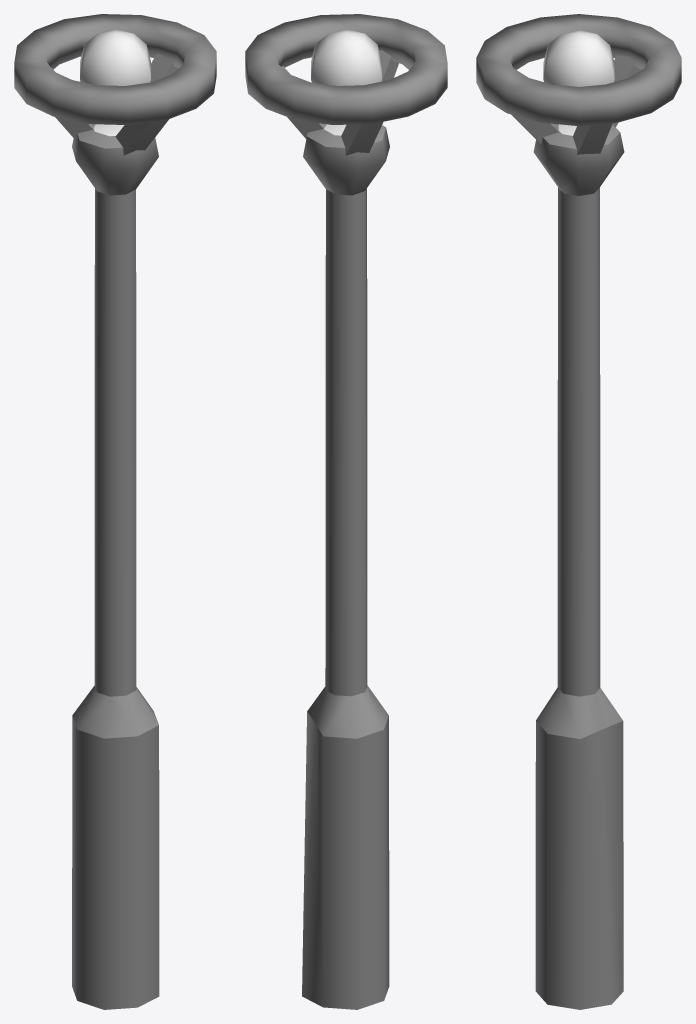
File: Light3.fbx
3 views of the same model, side by side, from view 1: azimuth 30°, elevation 25°; view 2: azimuth 150°, elevation 25°; view 3: azimuth 270°, elevation 25° (orthographic).
Visible parts, largest first — view 1: Light3; view 2: Light3; view 3: Light3.
Part boxes in pixels (left/top/right/bottom): Light3: left=14, top=14, right=216, bottom=1009; Light3: left=245, top=14, right=447, bottom=1009; Light3: left=476, top=14, right=681, bottom=1009.
Size of the model in its own units: 0.2936 by 1.51 by 0.2937.
